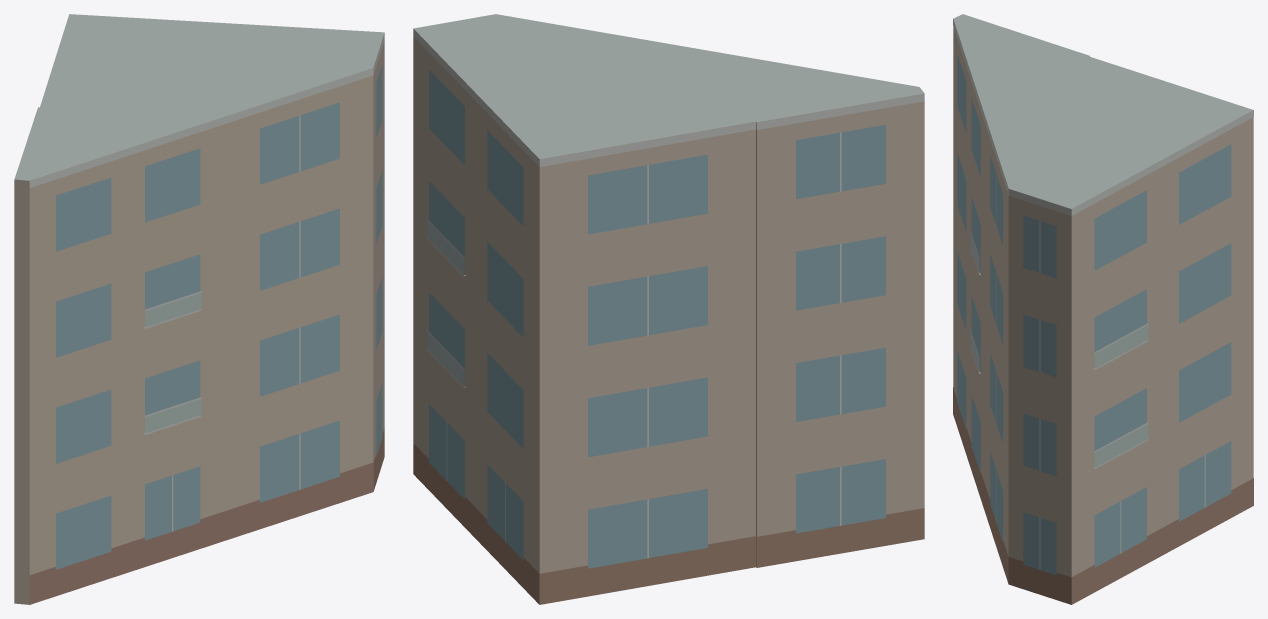
The model's file is survey-upis-32962010.glb.
3 renders of one model, left to right at view 1: azimuth 30°, elevation 25°; view 2: azimuth 150°, elevation 25°; view 3: azimuth 270°, elevation 25°, orthographic. The views are drawn at different scales.
Parts seen in each view (by area): view 1: survey-upis-32962010.tmp; view 2: survey-upis-32962010.tmp; view 3: survey-upis-32962010.tmp.
Boxes of the visible parts, box(x1,y1,x2,y2) form: survey-upis-32962010.tmp: box(14, 14, 384, 604); survey-upis-32962010.tmp: box(413, 14, 924, 604); survey-upis-32962010.tmp: box(953, 14, 1253, 604).
Bounding box in the file's own units: 14.71 × 13.9 × 9.57.
